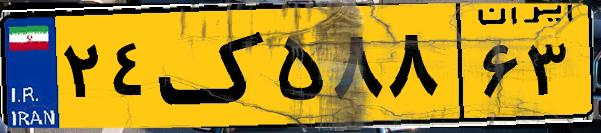2: (57, 26, 110, 100)
3: (525, 38, 570, 115)
4: (110, 28, 158, 98)
5: (270, 28, 330, 110)
6: (475, 38, 525, 113)
8: (385, 28, 445, 110), (330, 28, 385, 110)
ک: (158, 12, 270, 120)
